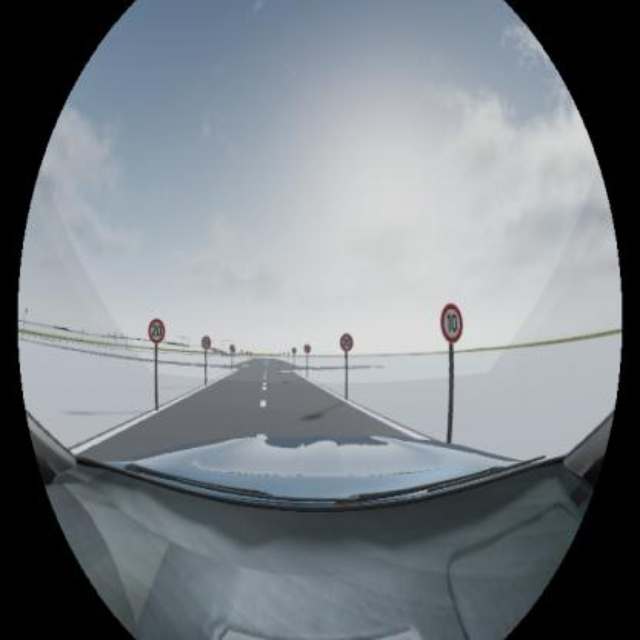Tốc độ tối đa cho phép 10km/h: (440, 302, 463, 342)
Tốc độ tối đa cho phép 20km/h: (149, 318, 165, 343), (340, 333, 353, 351)
